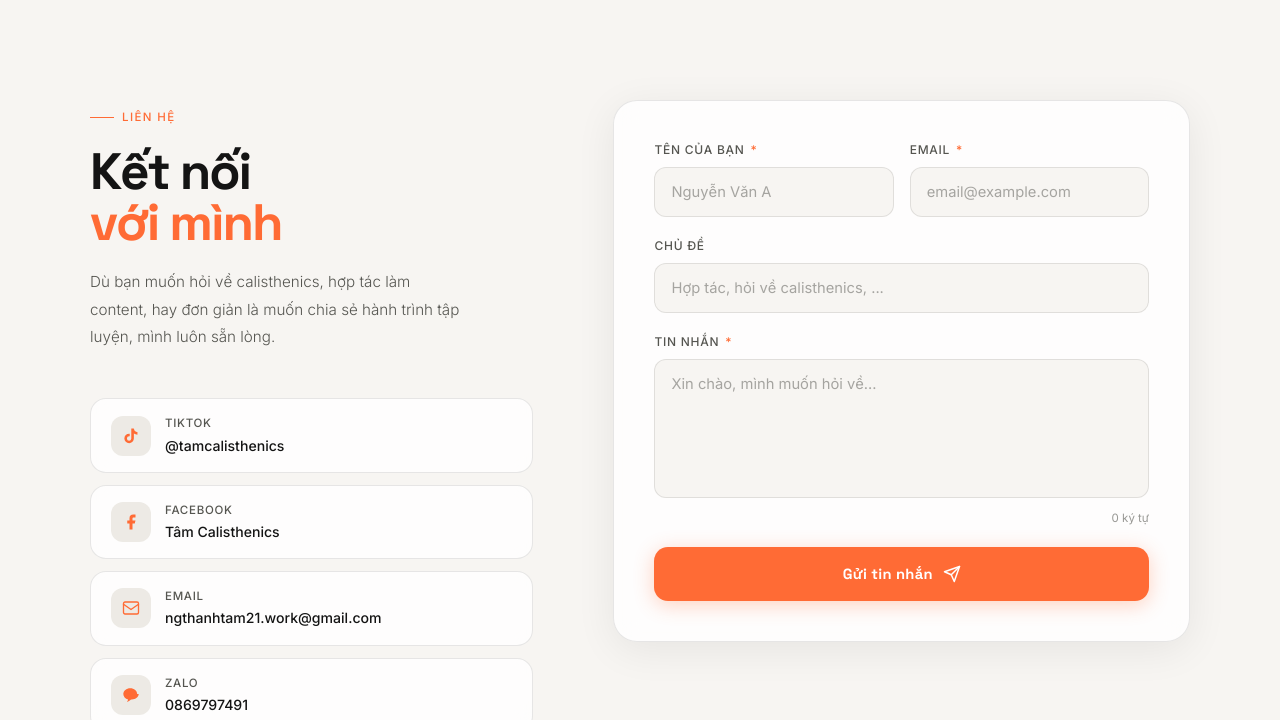
ContactForm › hiển thị banner lỗi khi backend trả lỗi
This screenshot has width=1280, height=720.
In the field labelled "Tên của bạn *": (774, 192) [654,167,894,217], type "Test User"
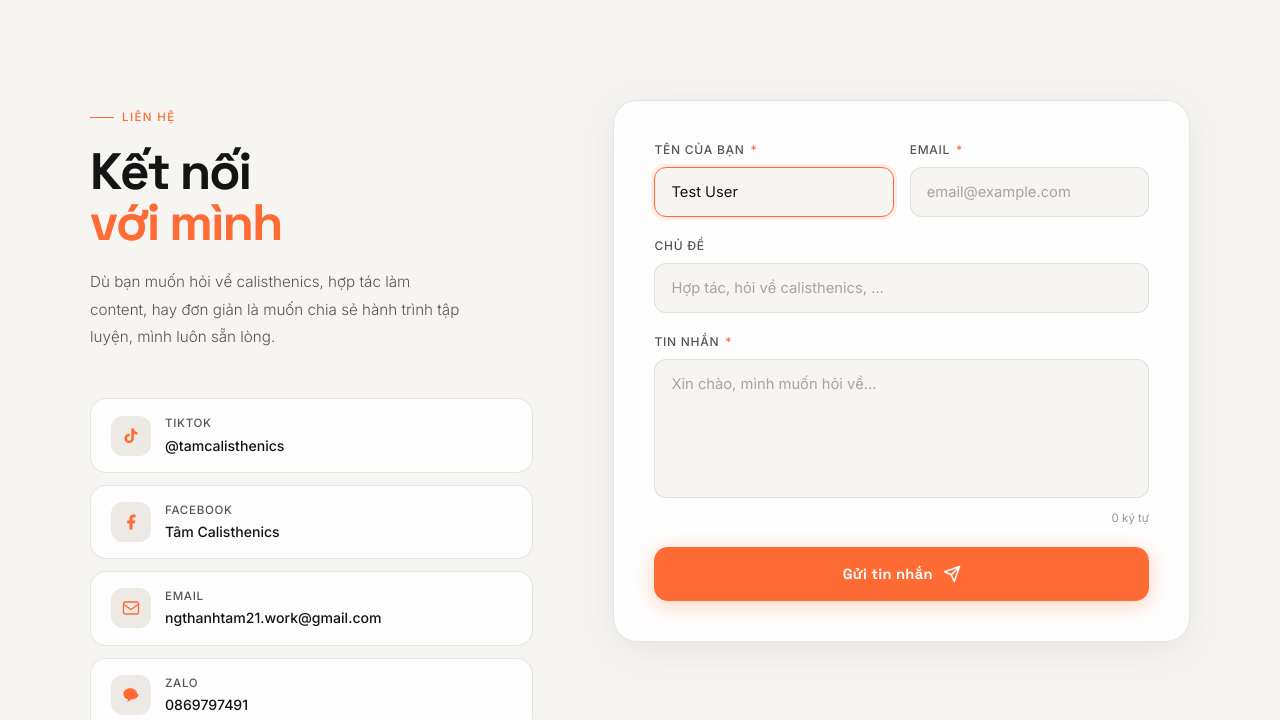
In the field labelled "Email *": (1029, 192) [910,167,1149,217], type "test@example.com"
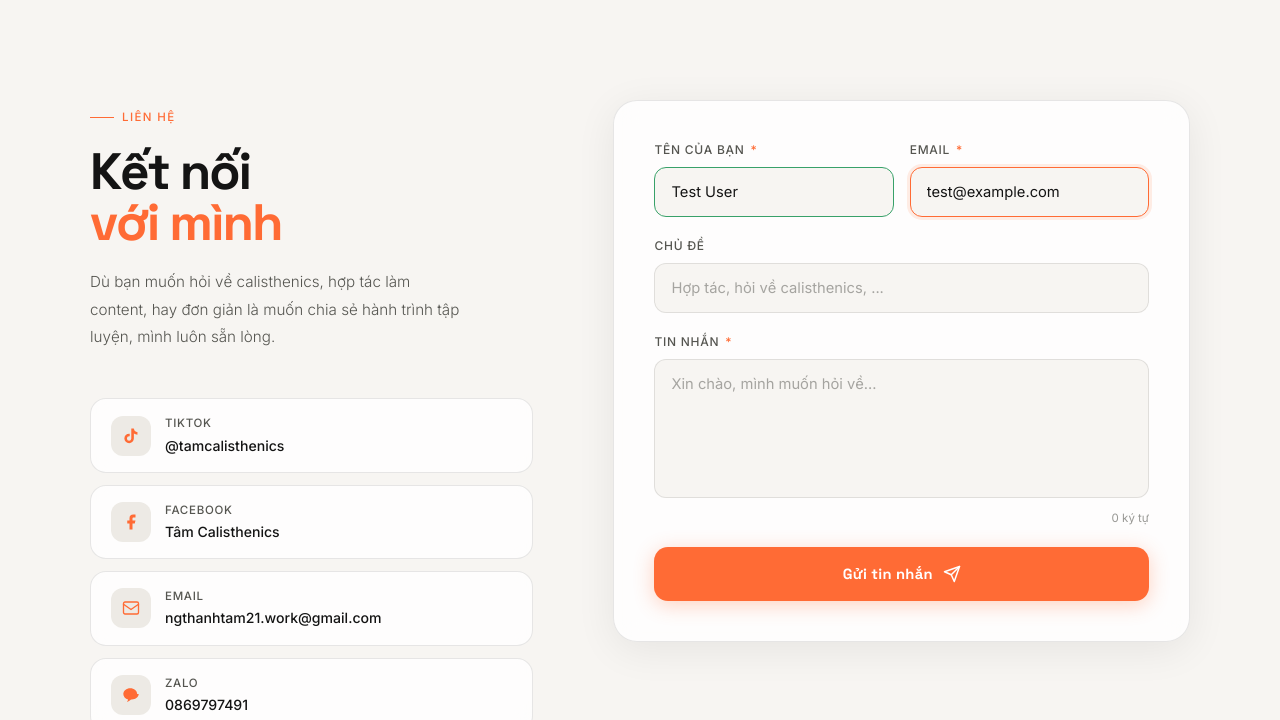
In the text box labelled "Tin nhắn *": (902, 428) [654,359,1149,498], type "Hello from unit test!"
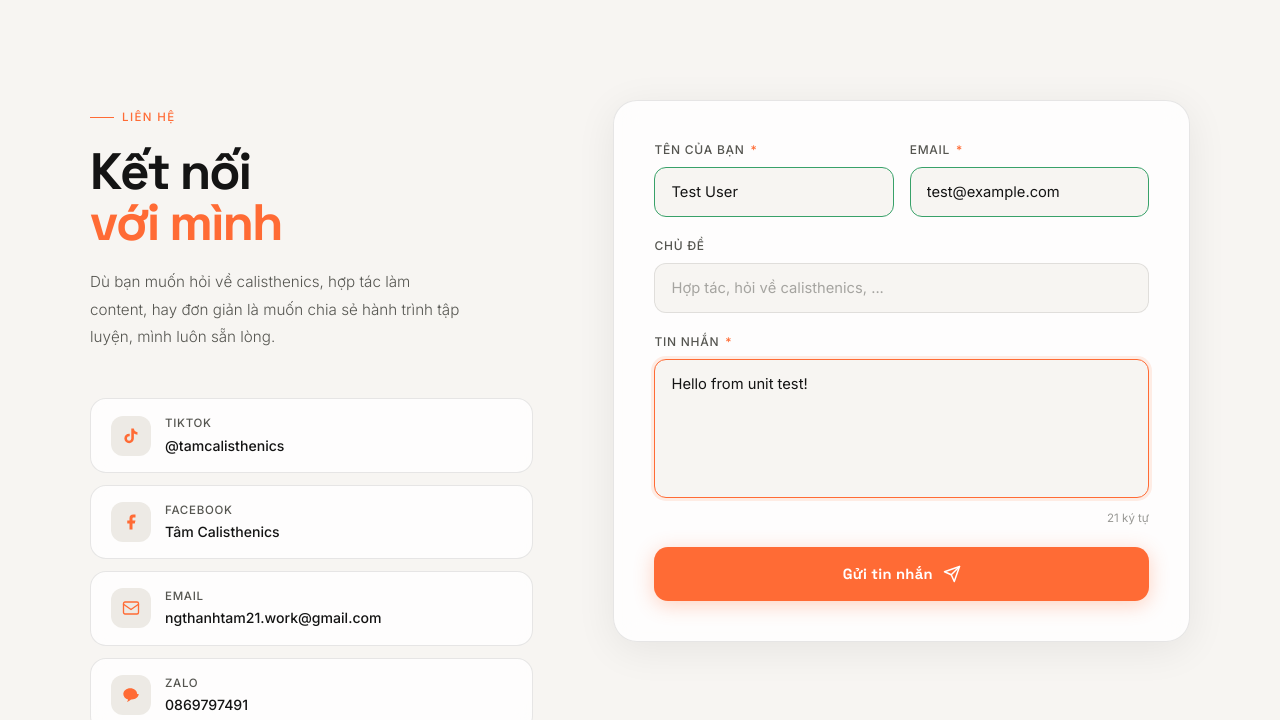
Click the button "Gửi tin nhắn": (902, 574) [654,547,1149,601]
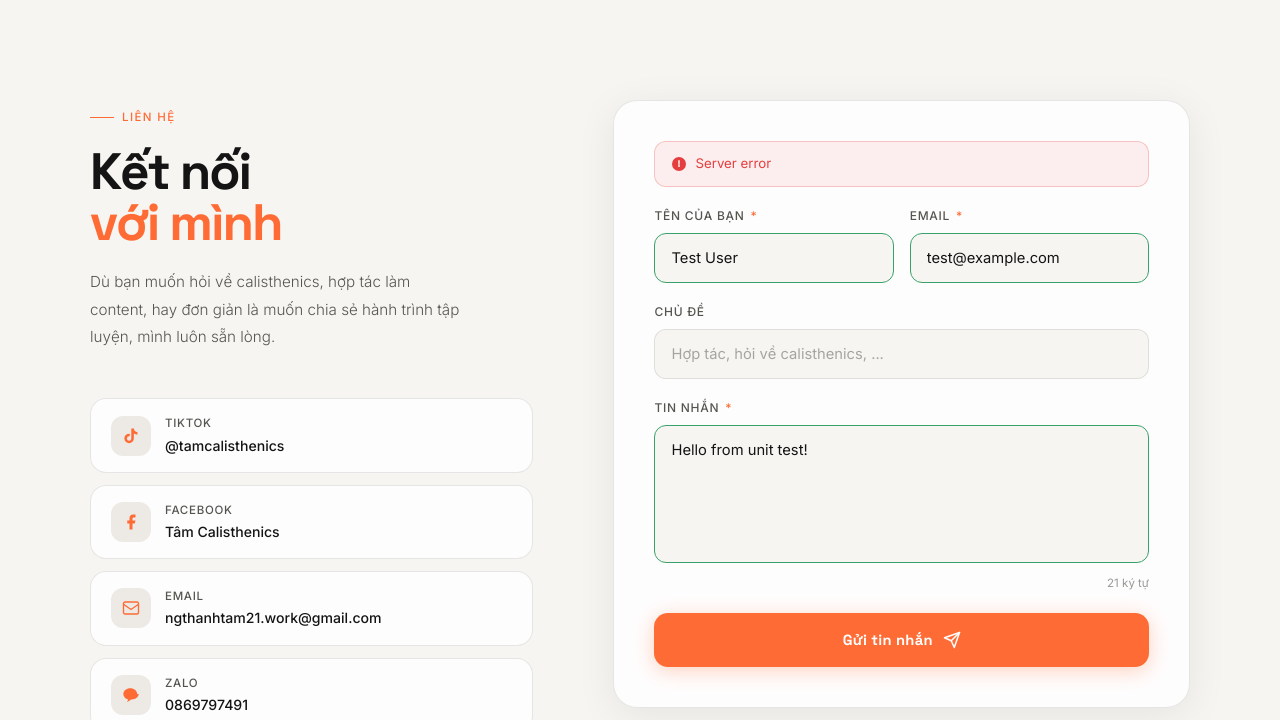
Now the text "Server error" is shown, box [654,141,1149,187]
